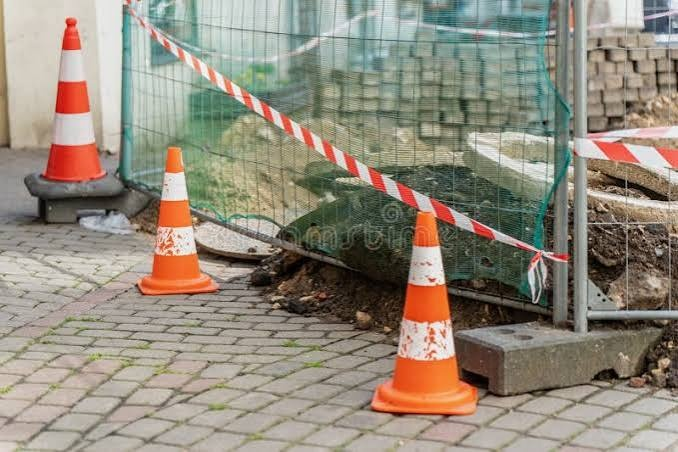safety_cone: (356, 206, 495, 423), (37, 13, 142, 208), (134, 142, 223, 292)
